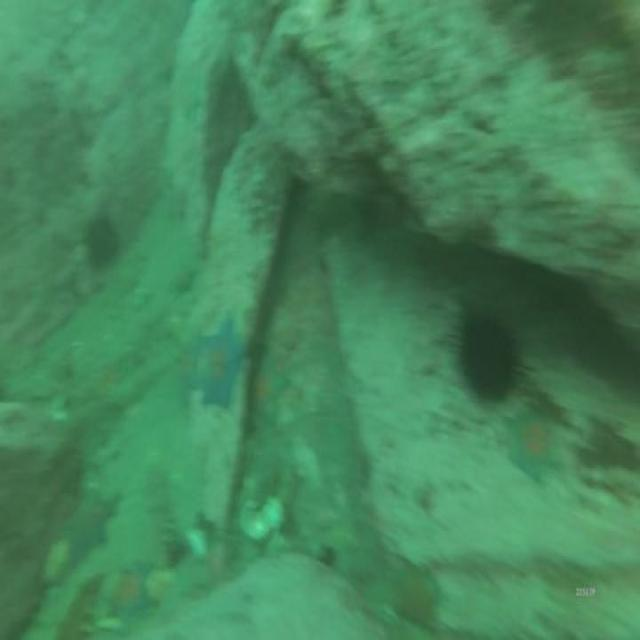echinus: (458, 310, 516, 400), (84, 221, 118, 264)
starfish: (189, 314, 241, 408), (506, 411, 562, 483), (64, 491, 115, 561), (391, 569, 441, 627), (251, 359, 285, 422), (116, 569, 150, 621)
